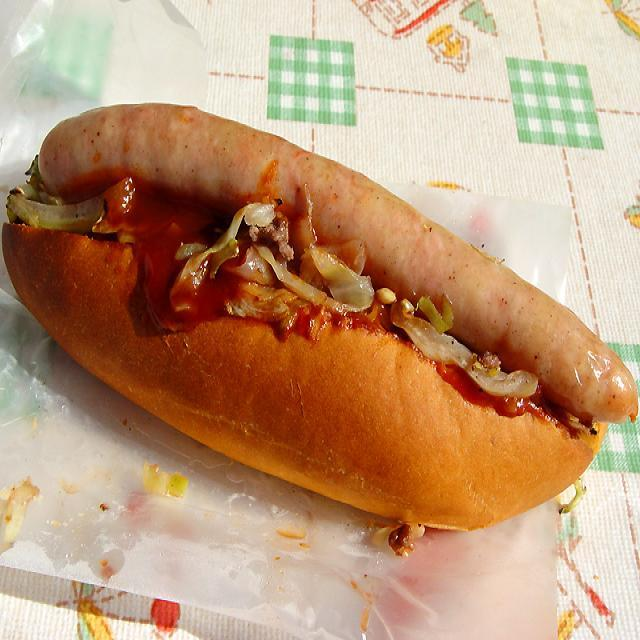Hot Dog: (1, 104, 640, 540)
